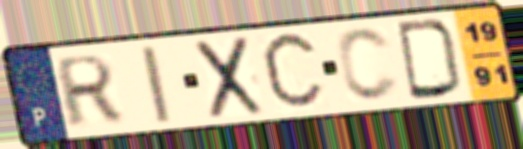C: (257, 27, 328, 116), (333, 25, 403, 104)
D: (393, 18, 465, 102)
I: (136, 43, 175, 126)
R: (54, 51, 125, 131)
X: (193, 33, 267, 122)
